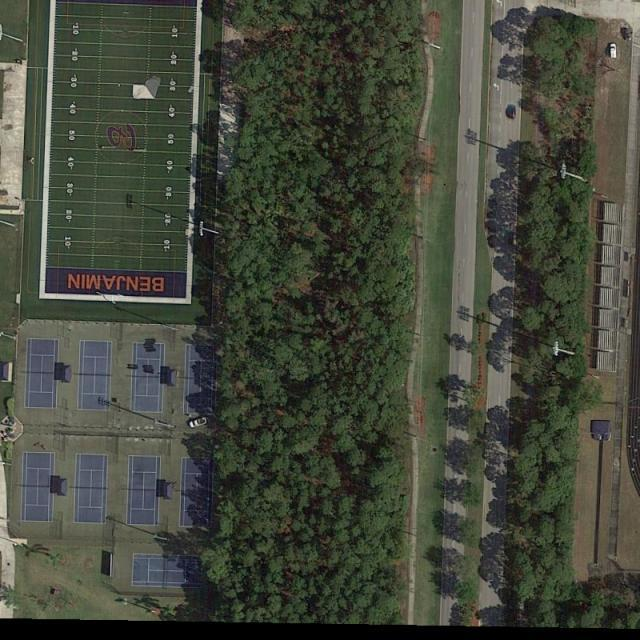vehicle: (189, 417, 208, 430), (610, 44, 618, 58), (510, 107, 517, 120), (625, 29, 632, 42)
